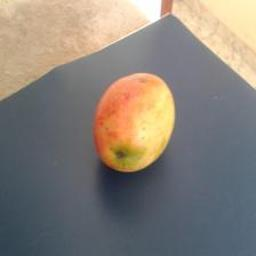Mango Fresh: (88, 58, 181, 189)
